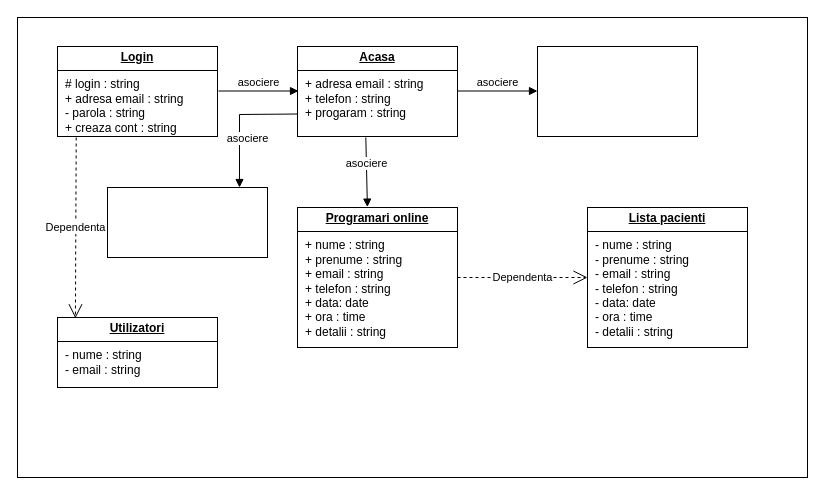
Some shapes in this 825 by 495 pixel diagram are drawn without their labels. Each missing label, with the centre of its shape:
Despre mine + descriere : string + imagini : string + login : string: the point at 617,91
Intrebari frecvente + descriere: string + intrebari : string: the point at 187,222
